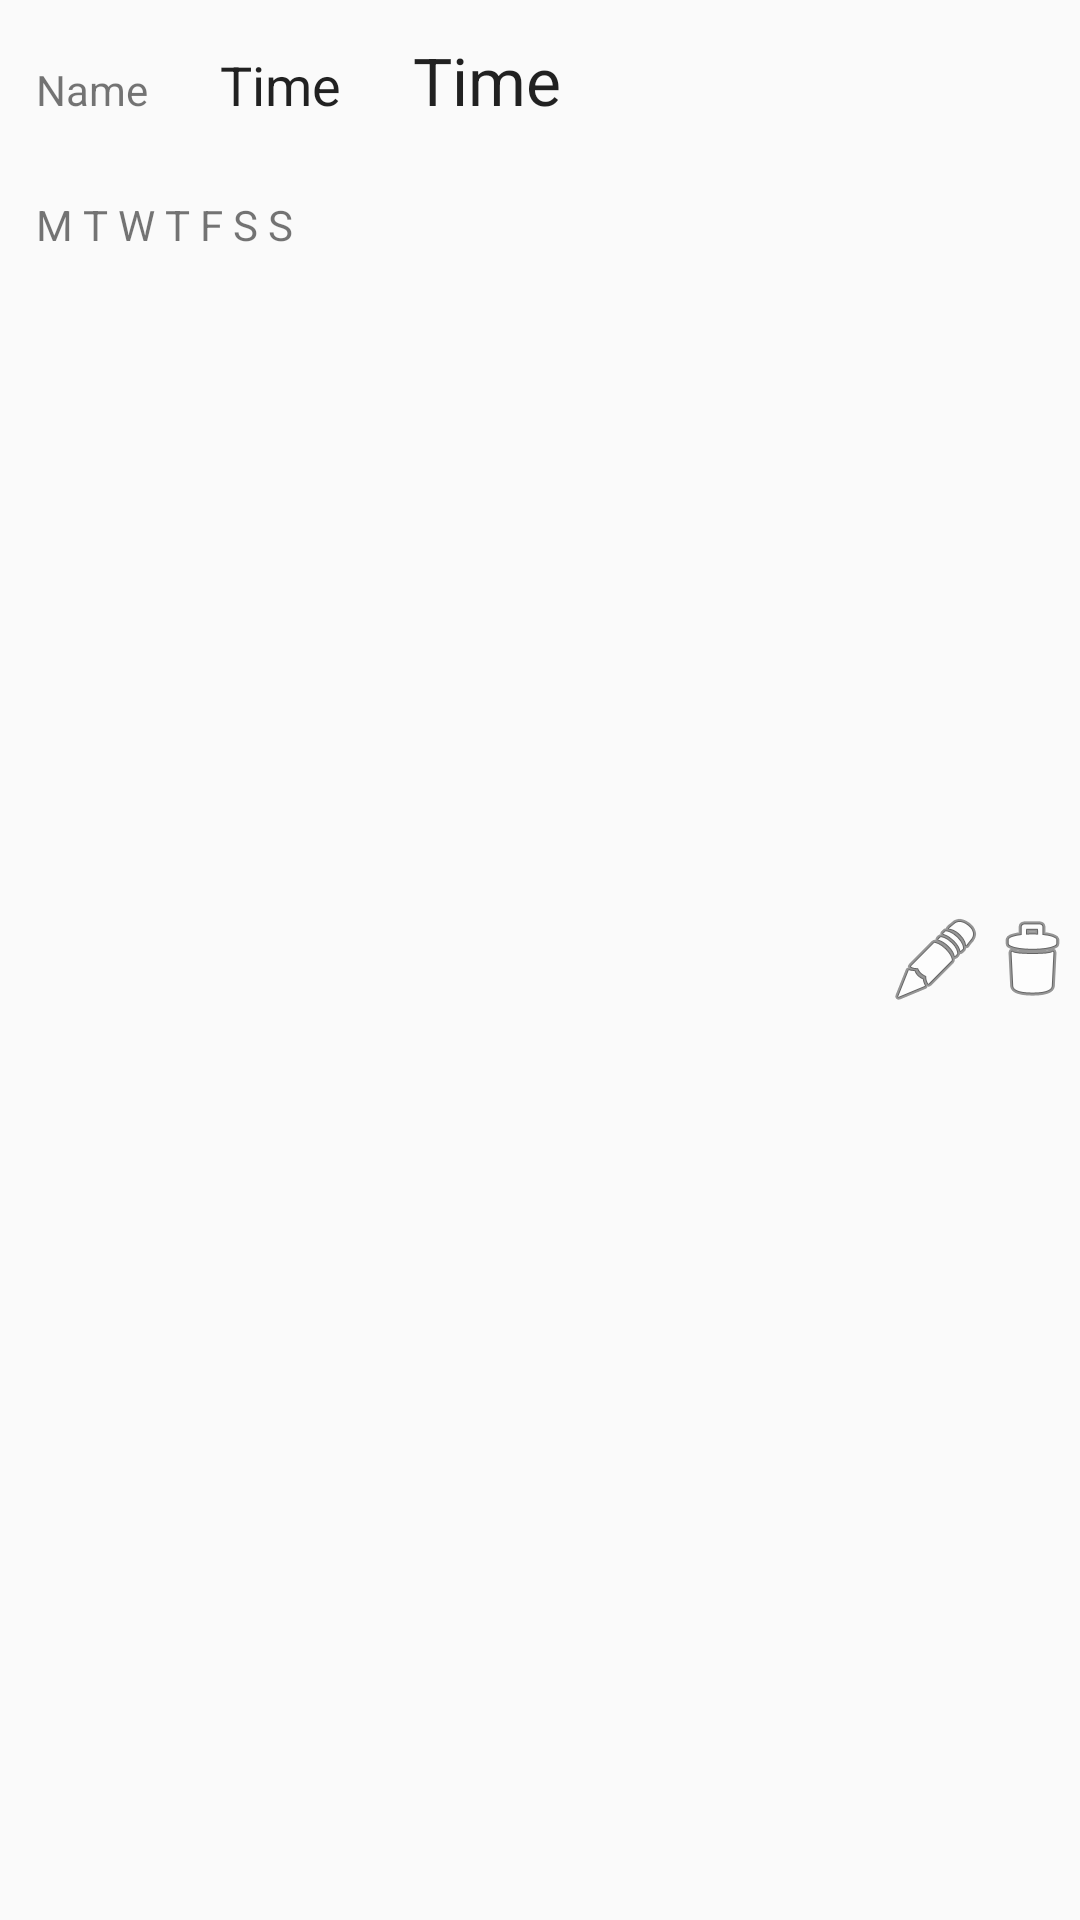

Where icons sit on this 1080w x 1920h app screen, as (x1, y1, x2, y2):
delete: (1005, 921, 1060, 996)
edit: (895, 919, 976, 1000)
